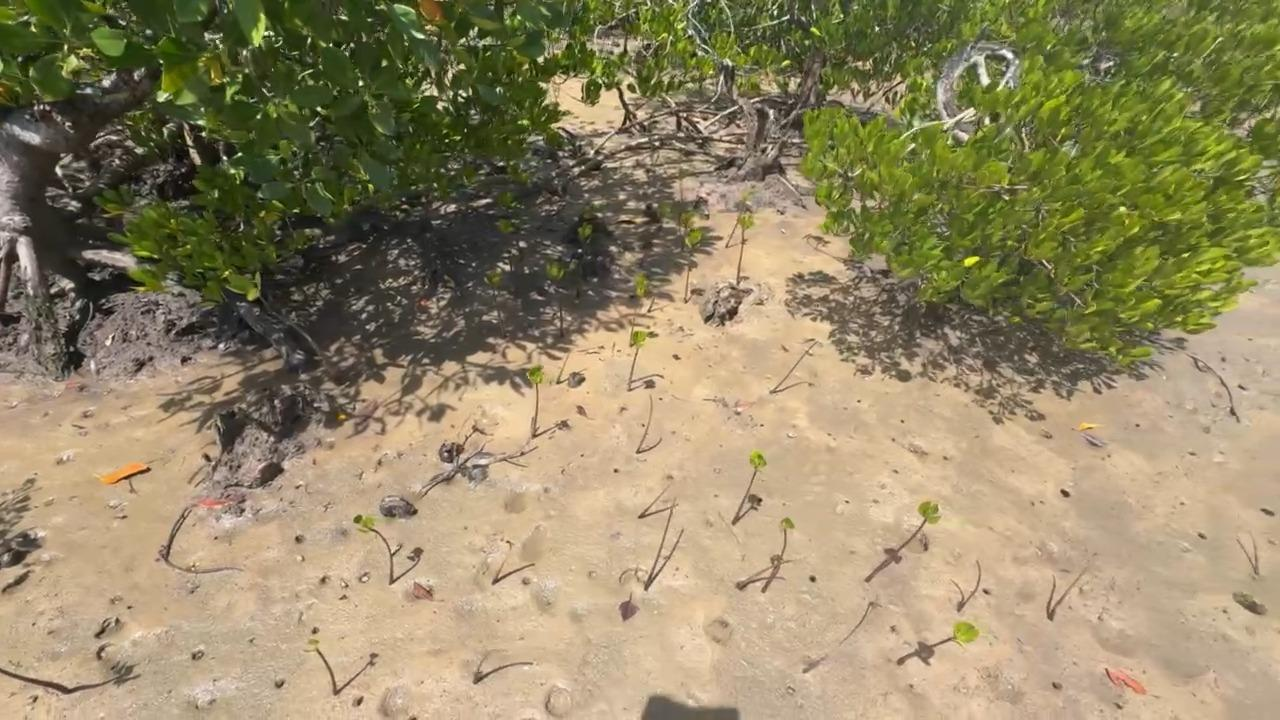Tree: (645, 497, 683, 591), (657, 198, 709, 252), (354, 514, 393, 585), (732, 451, 768, 524), (761, 517, 795, 593), (896, 501, 941, 554), (1046, 564, 1086, 621), (725, 185, 755, 248), (305, 639, 339, 694), (484, 266, 508, 337), (736, 560, 794, 589), (544, 261, 566, 337), (928, 620, 980, 649), (683, 228, 702, 304), (629, 271, 649, 342), (472, 661, 533, 684), (574, 223, 592, 299), (736, 214, 754, 283), (527, 364, 544, 436), (957, 561, 981, 611), (628, 330, 645, 391), (491, 564, 536, 585), (1236, 540, 1260, 575), (638, 505, 680, 519)
